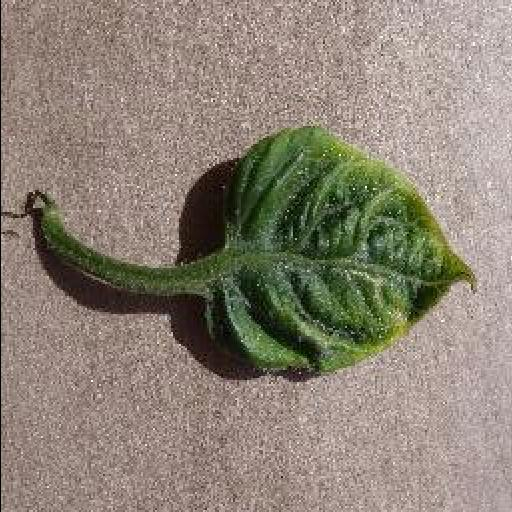disease_tomato: (198, 124, 478, 382)
